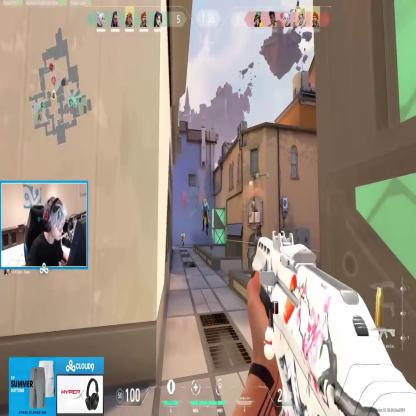enemy: (202, 199, 210, 236), (181, 231, 185, 246)
enemy_head: (204, 199, 207, 205), (182, 231, 184, 235)
